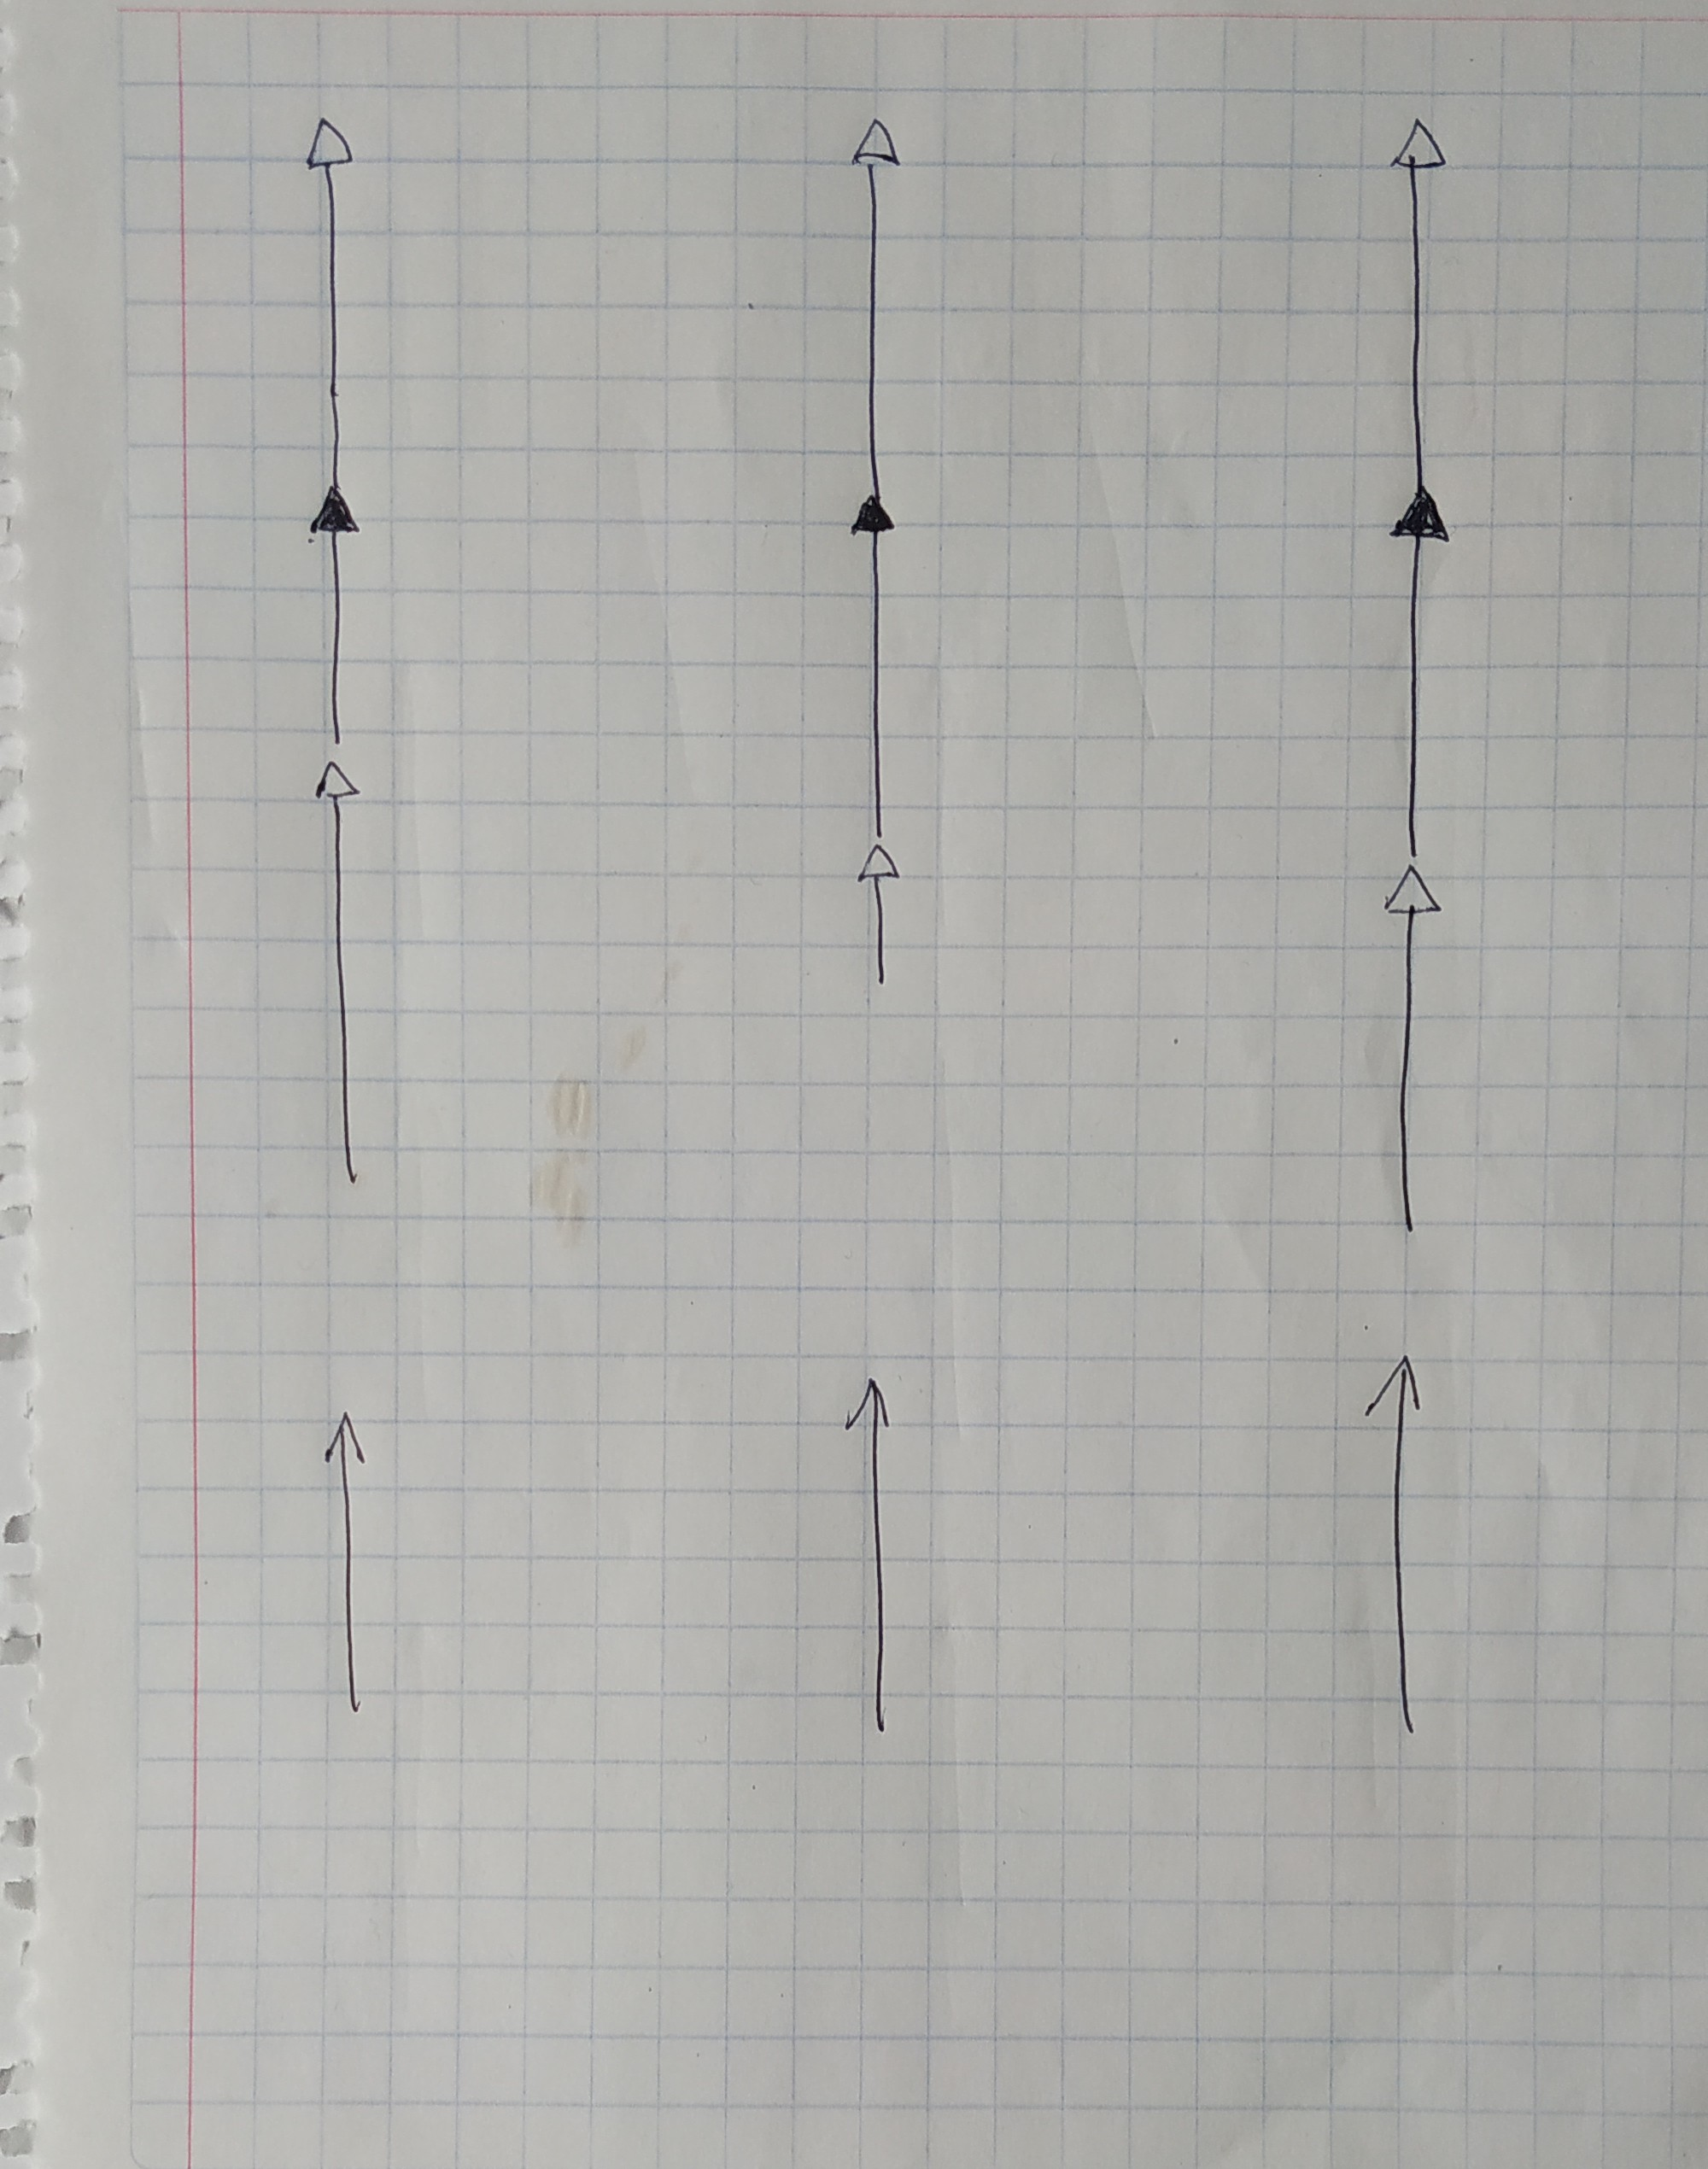arrow_line_up: (306, 752, 377, 1190), (1363, 1352, 1440, 1745), (1377, 866, 1456, 1243), (298, 113, 377, 484), (1386, 484, 1460, 861), (1384, 118, 1460, 486), (835, 498, 916, 840), (840, 1373, 905, 1736), (845, 114, 905, 500), (319, 1403, 386, 1720), (299, 486, 373, 750), (852, 845, 914, 998)
